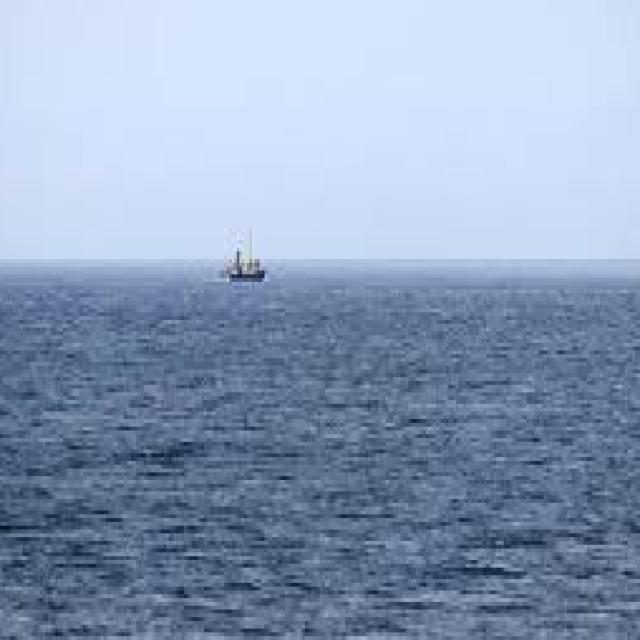fishing boat: (219, 235, 269, 283)
